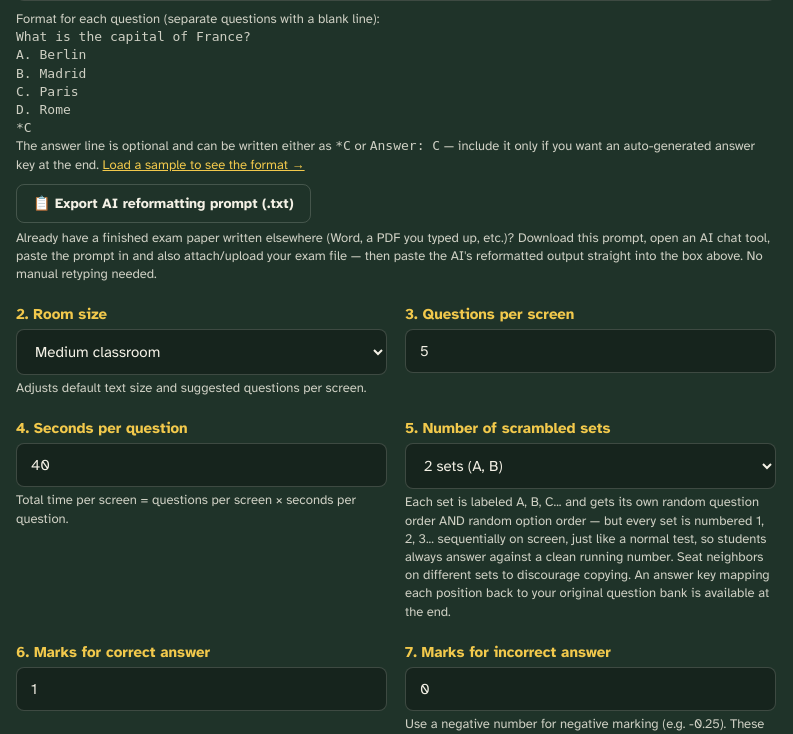
Test: SetupScreen › changing Number of scrambled sets always overwrites Questions per screen (no override tracking)
(page scrolled)
Replace the text in the number field labelled "3. Questions per screen" with "9". click: [590, 351]
box: [405,329,776,373]
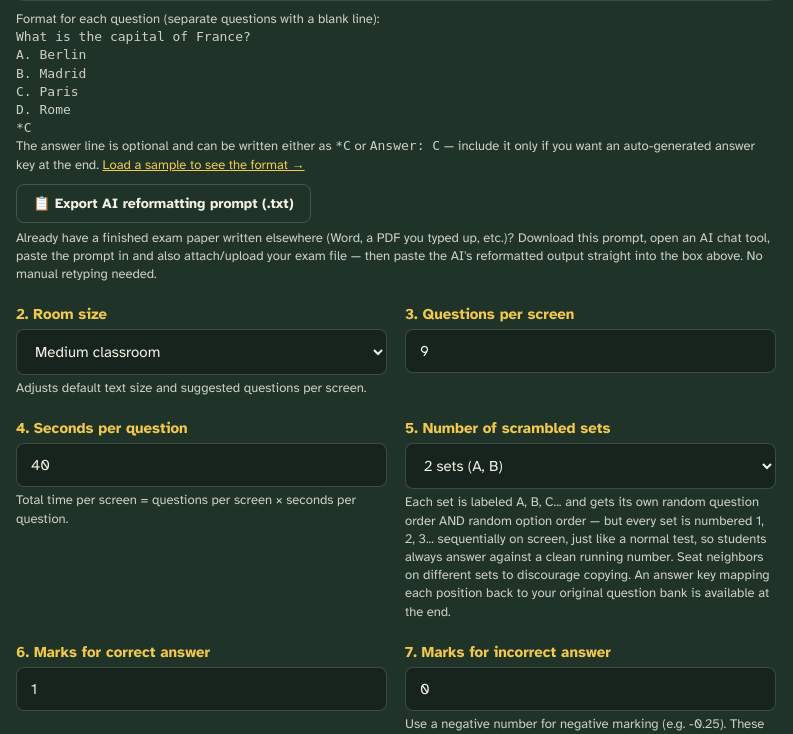
Select "4 sets (A–D)" in the dropdown labelled "5. Number of scrambled sets". click: [590, 466]
box: [405,443,776,489]
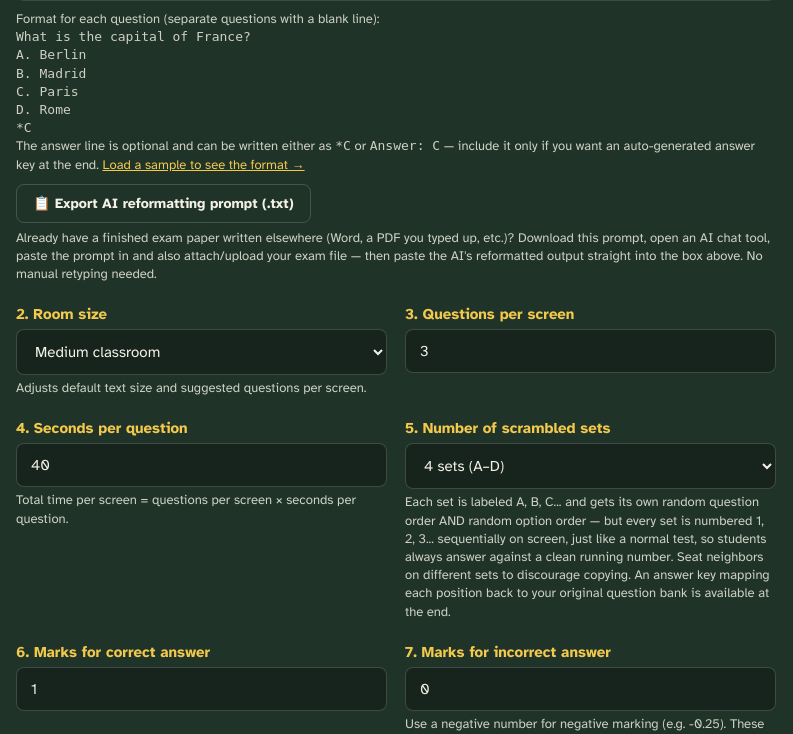
expect the number field labelled "3. Questions per screen" holds "3": met, box [405,329,776,373]
